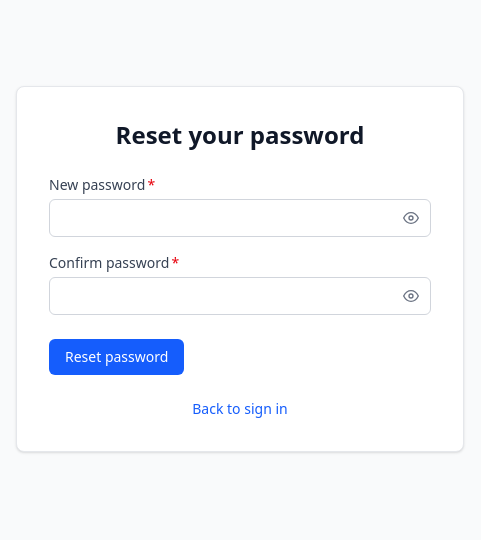
Test: ResetPasswordPage › displays error for expired or invalid token
The width and height of the screenshot is (481, 540).
In the password field labelled "New password*": (240, 218) [49,199,431,237], type "NewSecurePass1!"
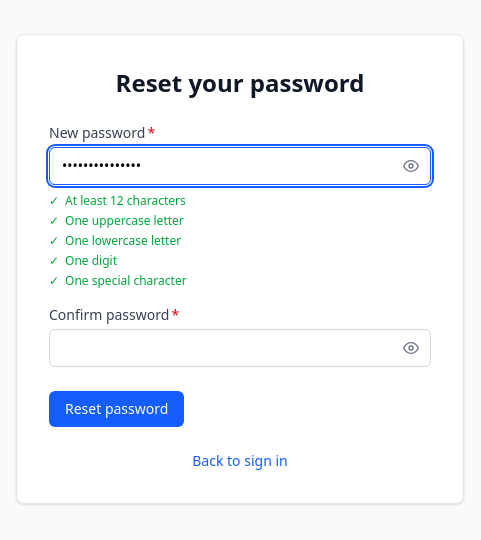
In the password field labelled "Confirm password*": (240, 348) [49,329,431,367], type "NewSecurePass1!"
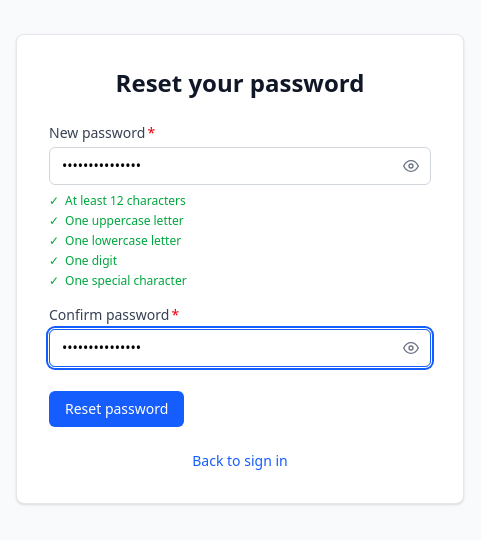
Click the button "Reset password": (117, 409) [49,391,184,427]
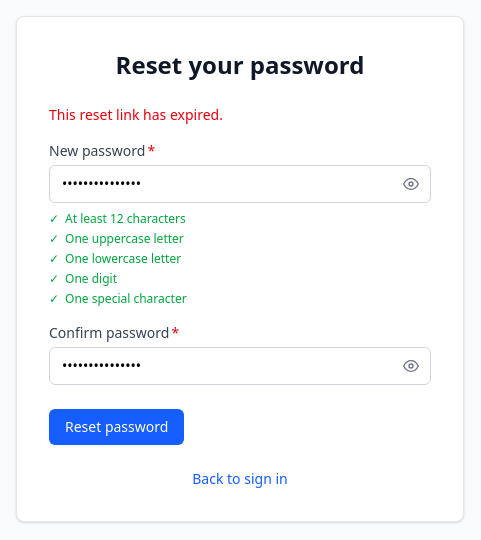
Check: the text "This reset link has expired." is shown, box [49,105,223,124]
